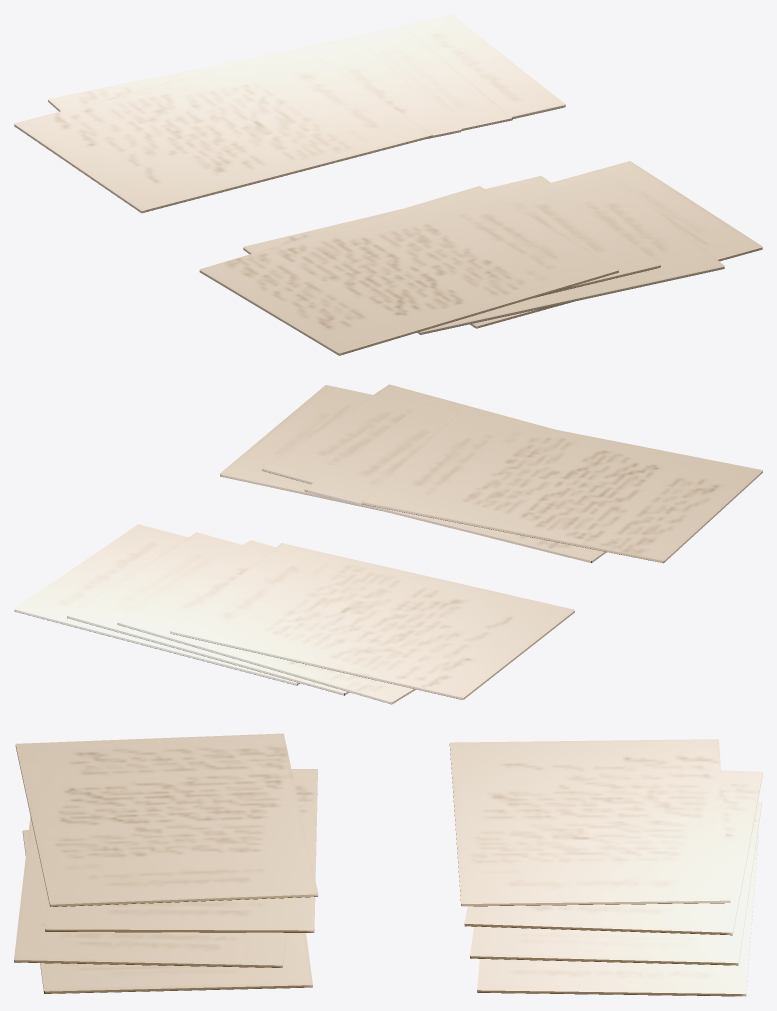
File: sheets.glb
3 renders of one model, top to bottom at view 1: azimuth 30°, elevation 25°; view 2: azimuth 150°, elevation 25°; view 3: azimuth 270°, elevation 25°, orthographic. The views are drawn at different scales.
Parts seen in each view (by area): view 1: Sheet_software-factories, Sheet_cairo-1-sierra-3, Sheet_cairo-1-sierra-1, Sheet_antifragile-codebases, Sheet_cairo-1-sierra-2, Sheet_using-dspy, Sheet_ai-swe-junior, Sheet_cairo-1; view 2: Sheet_software-factories, Sheet_cairo-1-sierra-3, Sheet_antifragile-codebases, Sheet_cairo-1-sierra-2, Sheet_using-dspy, Sheet_ai-swe-junior, Sheet_cairo-1-sierra-1, Sheet_cairo-1; view 3: Sheet_cairo-1-sierra-3, Sheet_software-factories, Sheet_cairo-1-sierra-1, Sheet_antifragile-codebases, Sheet_cairo-1-sierra-2, Sheet_using-dspy, Sheet_ai-swe-junior, Sheet_cairo-1.
Boxes of the visible parts, x1,y1,x2,y2 form: Sheet_software-factories: [14, 47, 432, 213]; Sheet_cairo-1-sierra-3: [199, 186, 618, 355]; Sheet_cairo-1-sierra-1: [417, 175, 724, 334]; Sheet_antifragile-codebases: [48, 36, 461, 138]; Sheet_cairo-1-sierra-2: [243, 175, 660, 297]; Sheet_using-dspy: [339, 14, 565, 119]; Sheet_ai-swe-junior: [268, 26, 512, 130]; Sheet_cairo-1: [470, 161, 762, 328]; Sheet_software-factories: [170, 543, 574, 699]; Sheet_cairo-1-sierra-3: [361, 411, 762, 563]; Sheet_antifragile-codebases: [117, 540, 415, 704]; Sheet_cairo-1-sierra-2: [304, 403, 606, 562]; Sheet_using-dspy: [14, 524, 299, 685]; Sheet_ai-swe-junior: [67, 532, 349, 695]; Sheet_cairo-1-sierra-1: [262, 384, 553, 483]; Sheet_cairo-1: [220, 385, 379, 510]; Sheet_cairo-1-sierra-3: [15, 733, 318, 906]; Sheet_software-factories: [449, 739, 730, 906]; Sheet_cairo-1-sierra-1: [14, 816, 286, 967]; Sheet_antifragile-codebases: [464, 770, 762, 935]; Sheet_cairo-1-sierra-2: [45, 769, 317, 932]; Sheet_using-dspy: [477, 832, 758, 996]; Sheet_ai-swe-junior: [470, 801, 761, 965]; Sheet_cairo-1: [22, 830, 312, 993].
Bounding box in the file's own units: 0.4604 × 0.0118 × 0.5842.
Materials: 1 (1 with a texture image).
